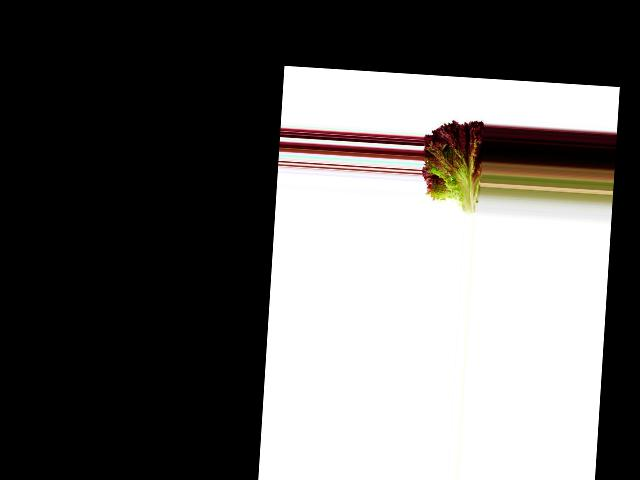lettuce: (420, 112, 485, 216)
